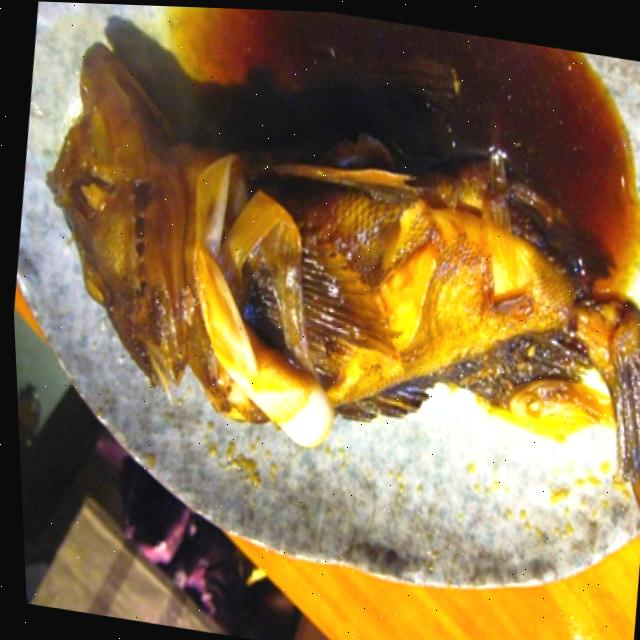熟制海鲜: (0, 10, 640, 563)
